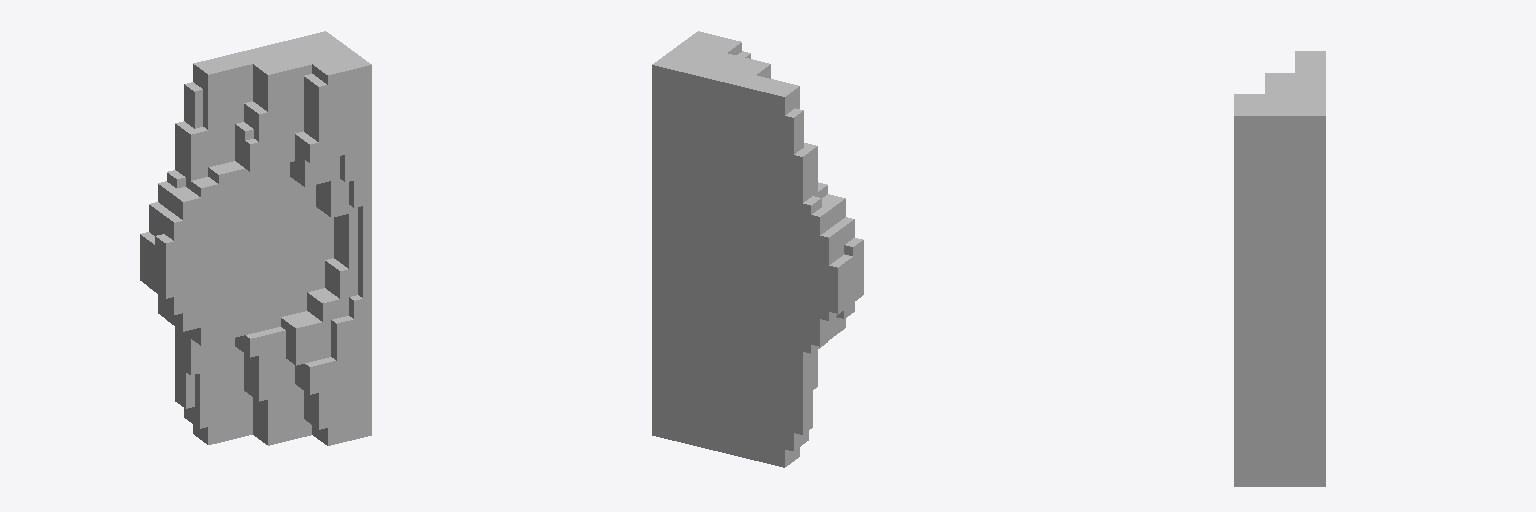
File: 4x1 - dome.obj
3 renders of one model, left to right at view 1: azimuth 30°, elevation 25°; view 2: azimuth 150°, elevation 25°; view 3: azimuth 270°, elevation 25°, orthographic.
Bounding box in the file's own units: 21 × 40 × 9.